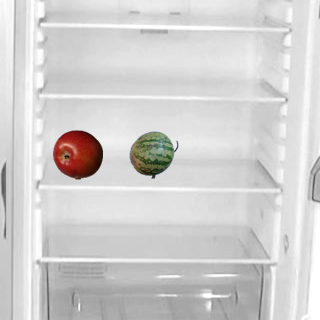Apple Braeburn: (52, 129, 102, 179)
Watermelon: (128, 129, 178, 179)
